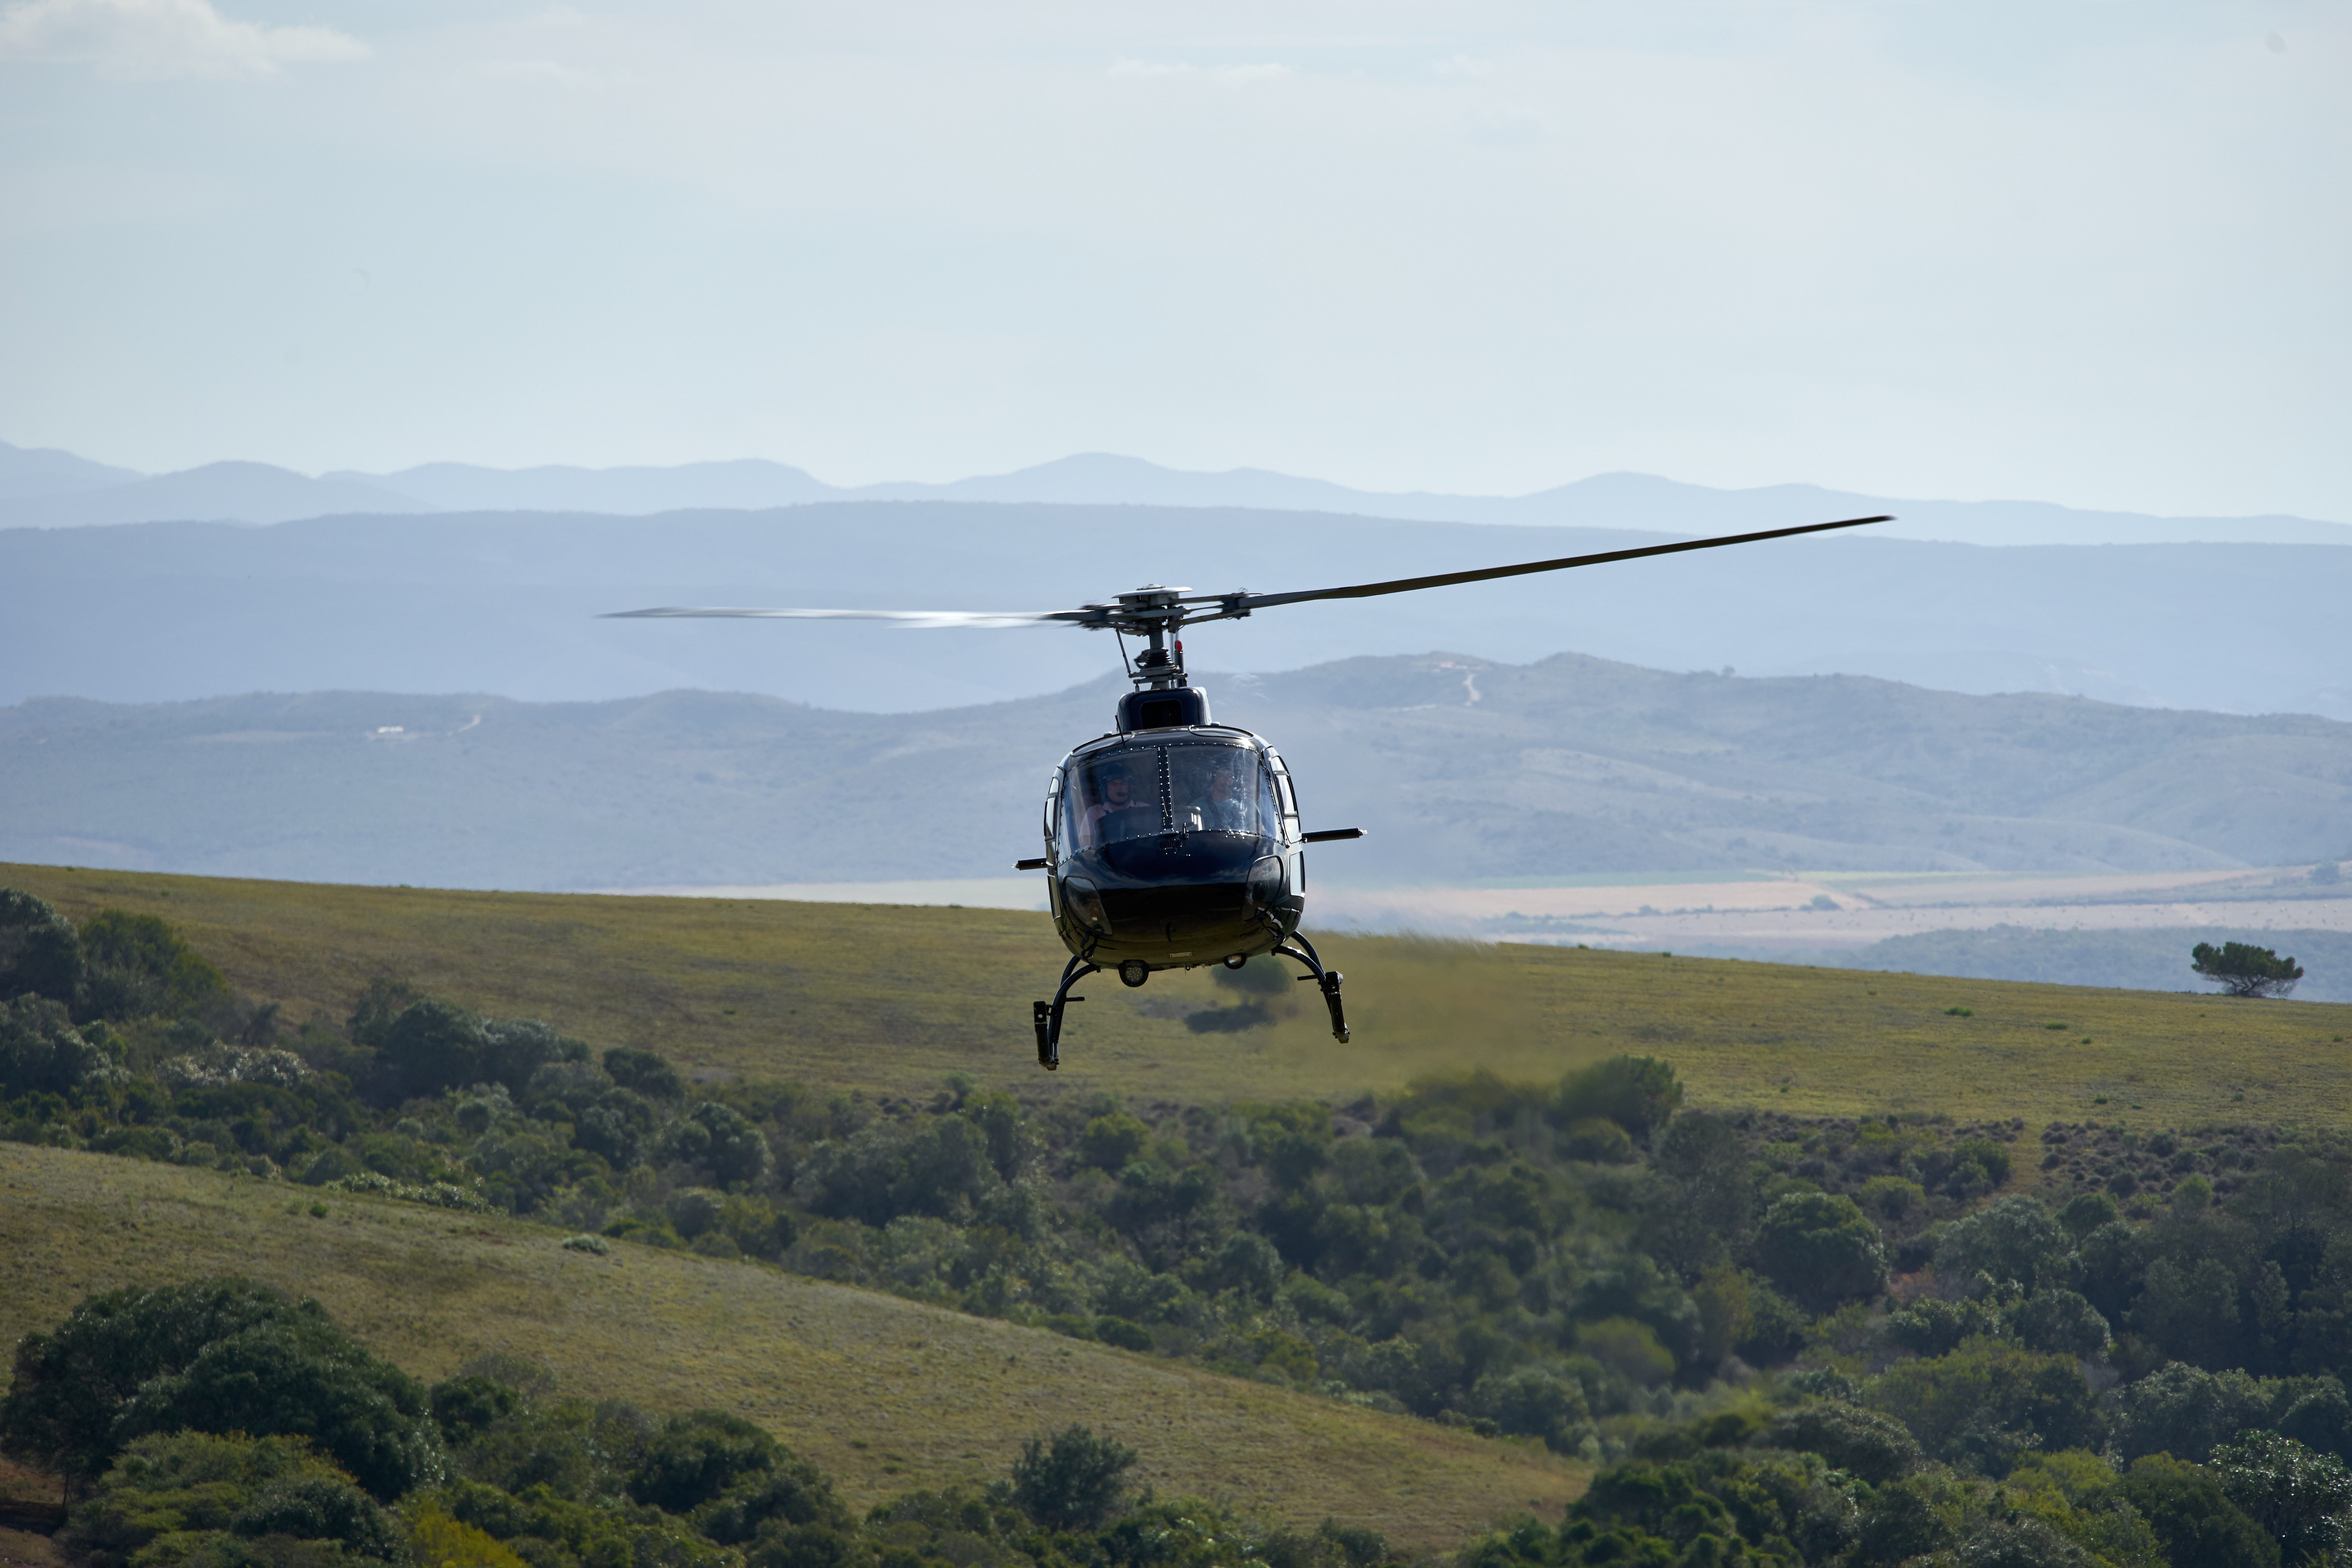helicopter: (499, 441, 1988, 1108)
